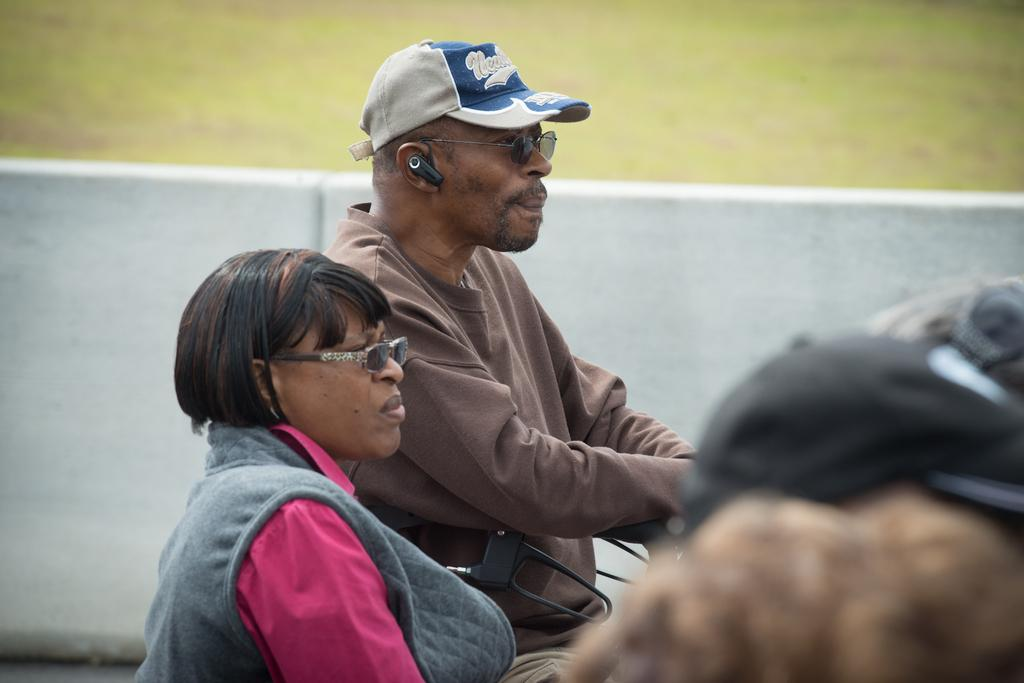Hat: (676, 337, 1023, 536), (350, 36, 592, 162)
